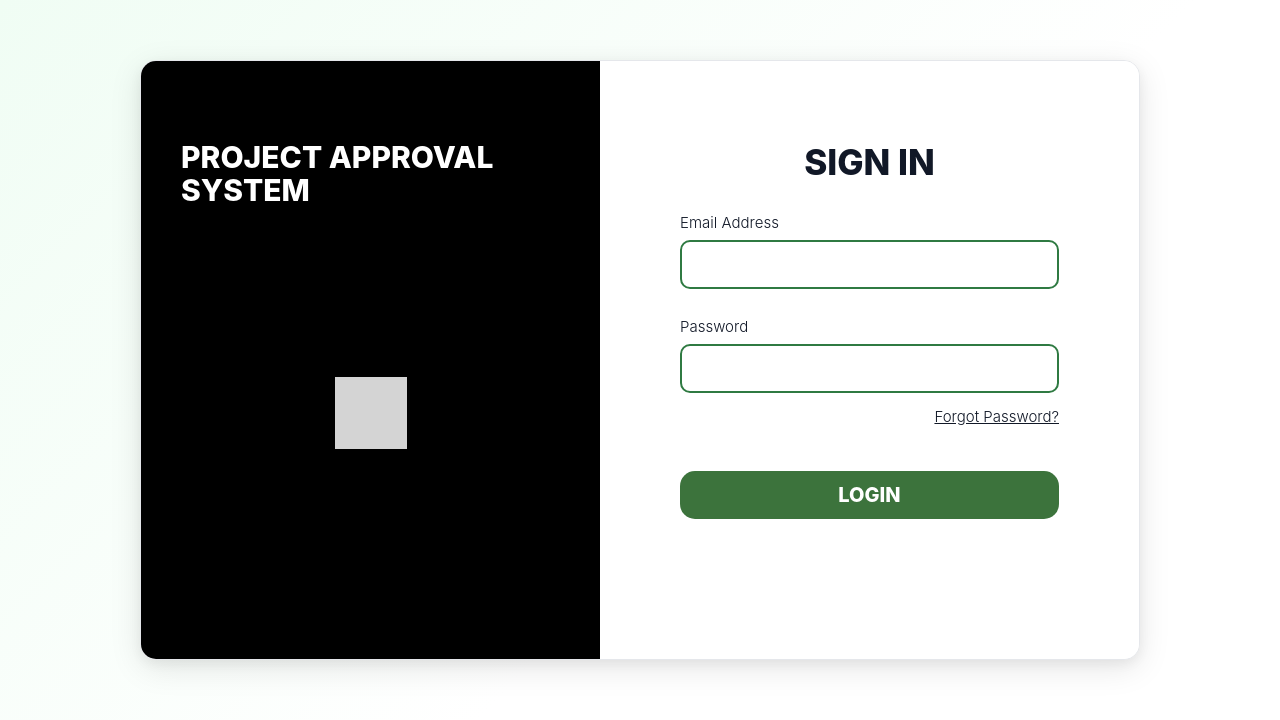
Test: LoginPage › Form Validation › should show error when password is empty
Type "test@university.ac.uk" into the field labelled "Email Address" at (870, 264), box [680, 240, 1059, 289]
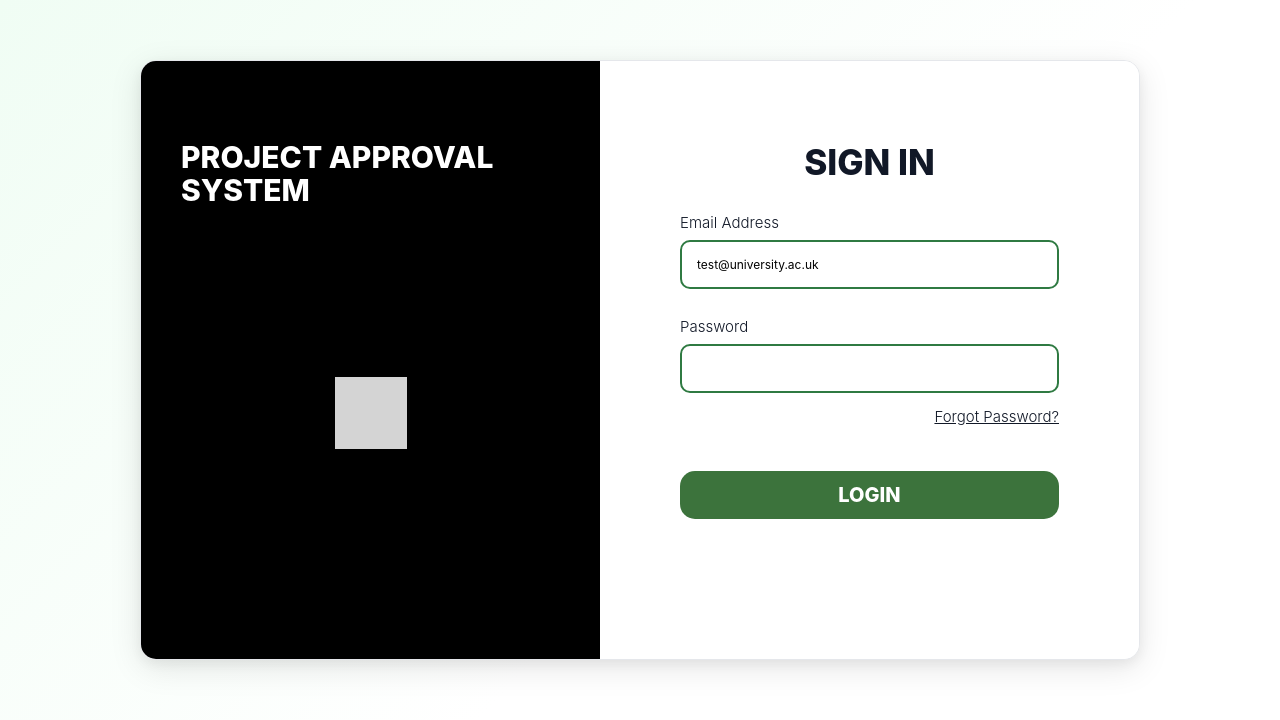
Click the button "LOGIN" at (870, 495), box [680, 471, 1059, 519]
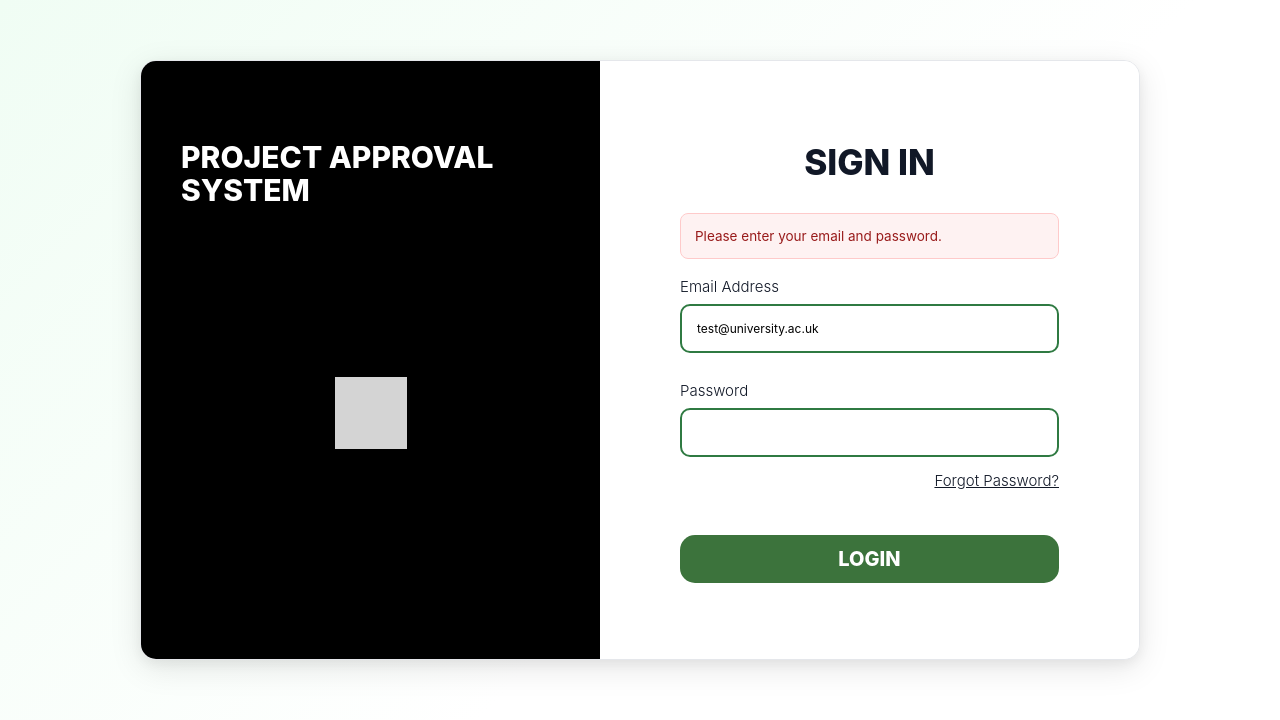
Expected: the text "Please enter your email and password." is shown, [680, 213, 1059, 259]
